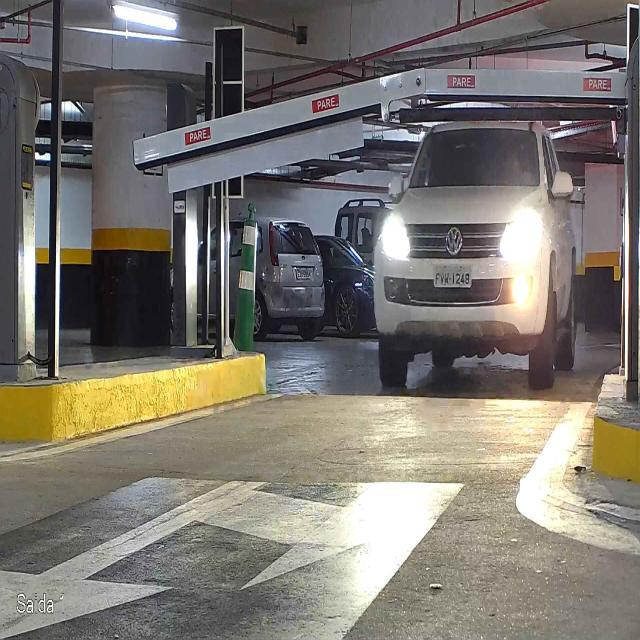old_plate: (431, 262, 474, 289)
